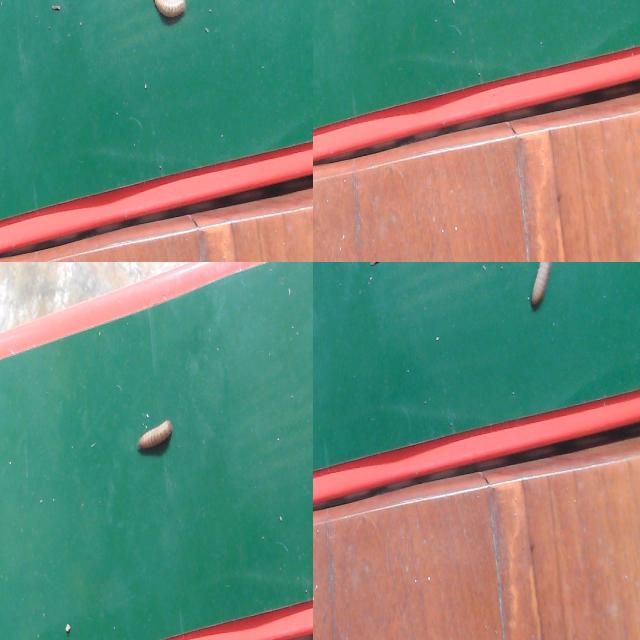Maggot: (523, 262, 559, 319), (136, 421, 173, 457), (153, 0, 187, 25)
